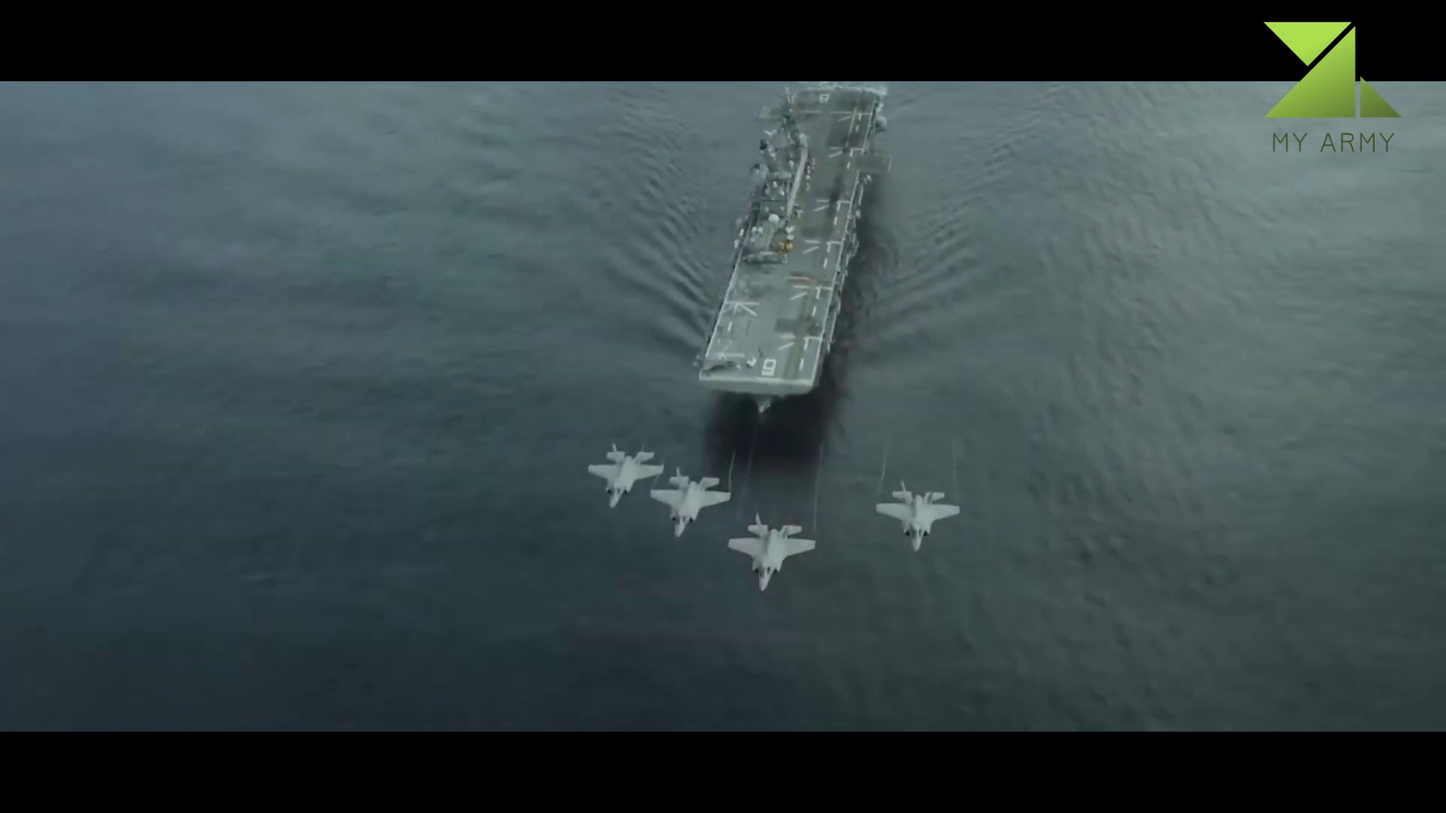F35: (726, 512, 818, 593), (872, 477, 963, 554), (647, 463, 732, 539), (584, 441, 665, 509)
